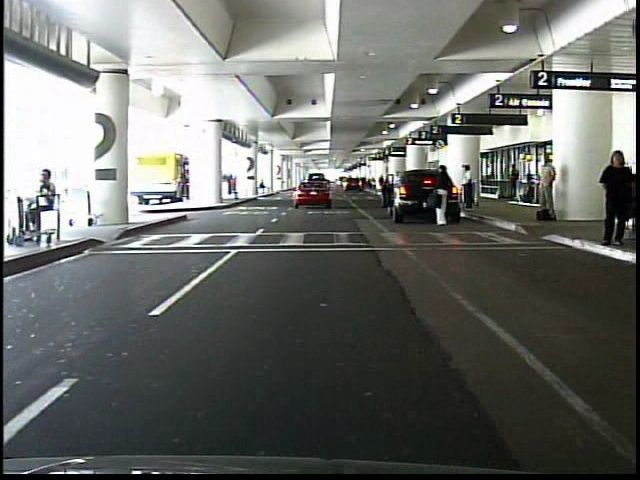person: (597, 148, 633, 247), (14, 165, 60, 241), (435, 164, 453, 227), (459, 164, 475, 211), (509, 162, 521, 201)
